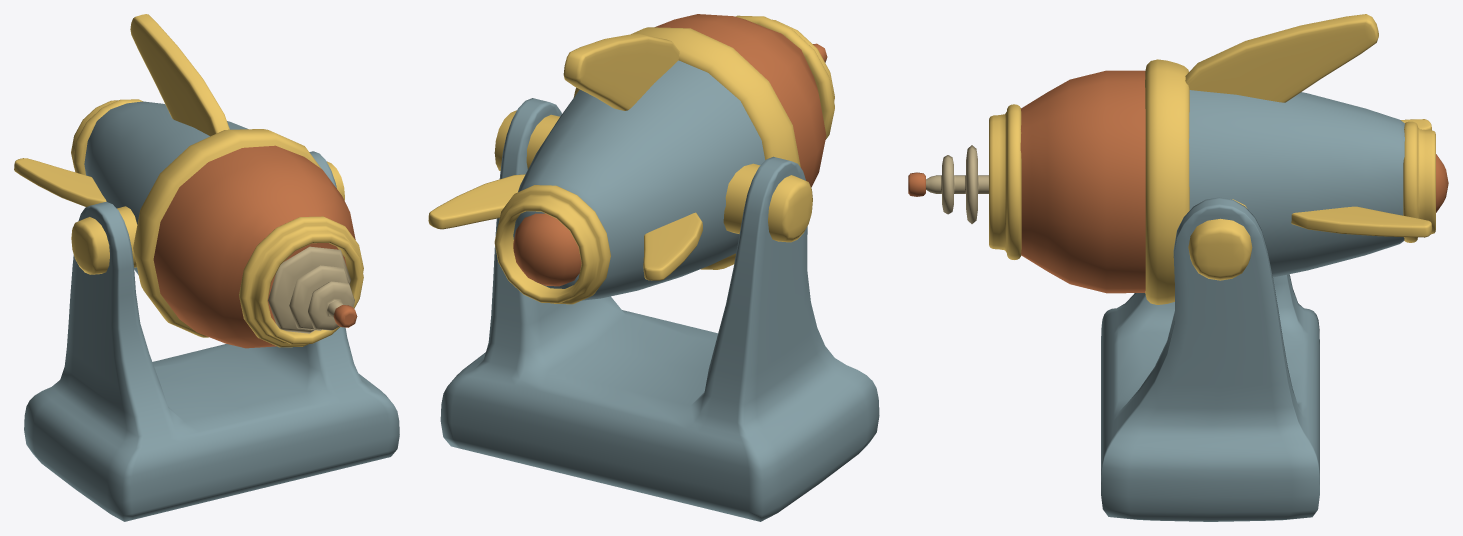
The model's file is Cannon.fbx.
3 renders of one model, left to right at view 1: azimuth 30°, elevation 25°; view 2: azimuth 150°, elevation 25°; view 3: azimuth 270°, elevation 25°, orthographic. The views are drawn at different scales.
Visible parts, largest first — view 1: Cannon, Stand; view 2: Stand, Cannon; view 3: Cannon, Stand.
Boxes of the visible parts, box(x1,y1,x2,y2) form: Cannon: box(14, 14, 363, 348); Stand: box(24, 151, 399, 521); Stand: box(440, 98, 879, 521); Cannon: box(428, 14, 834, 304); Cannon: box(908, 14, 1448, 304); Stand: box(1101, 197, 1319, 521).
Size of the model in its own units: 1.67 by 2.2 by 2.47.
